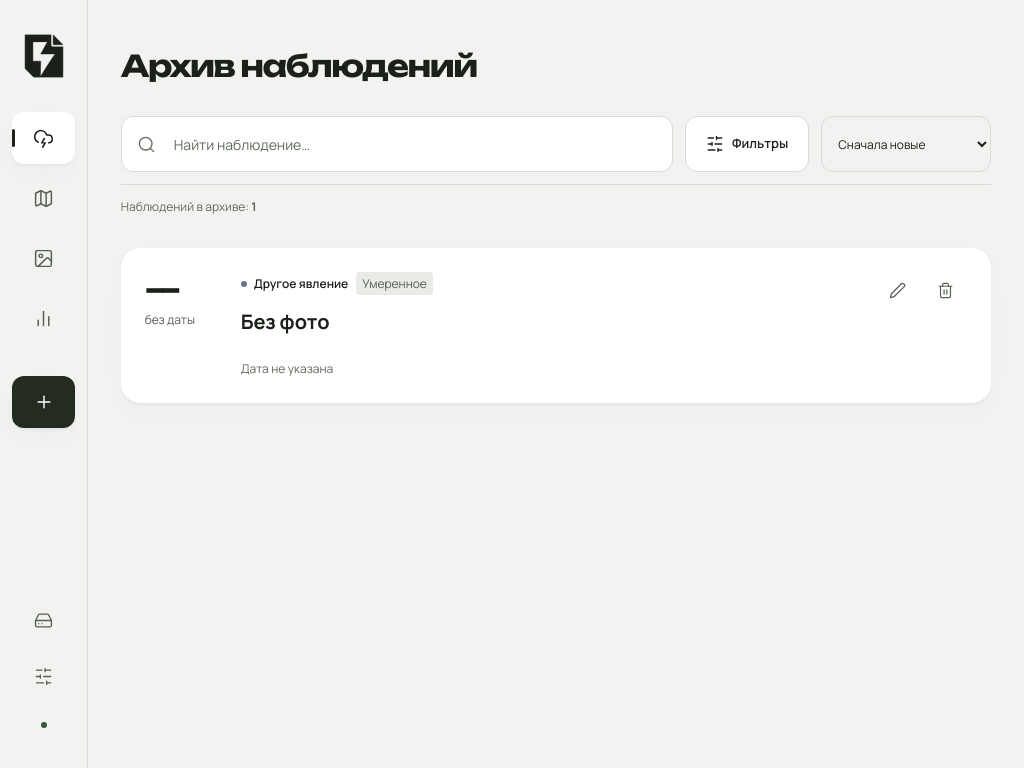
Test: tabs › shows an empty gallery message when nothing has photos
Click the button named "Галерея". click: {"x": 44, "y": 258}
box: [12,232,75,284]
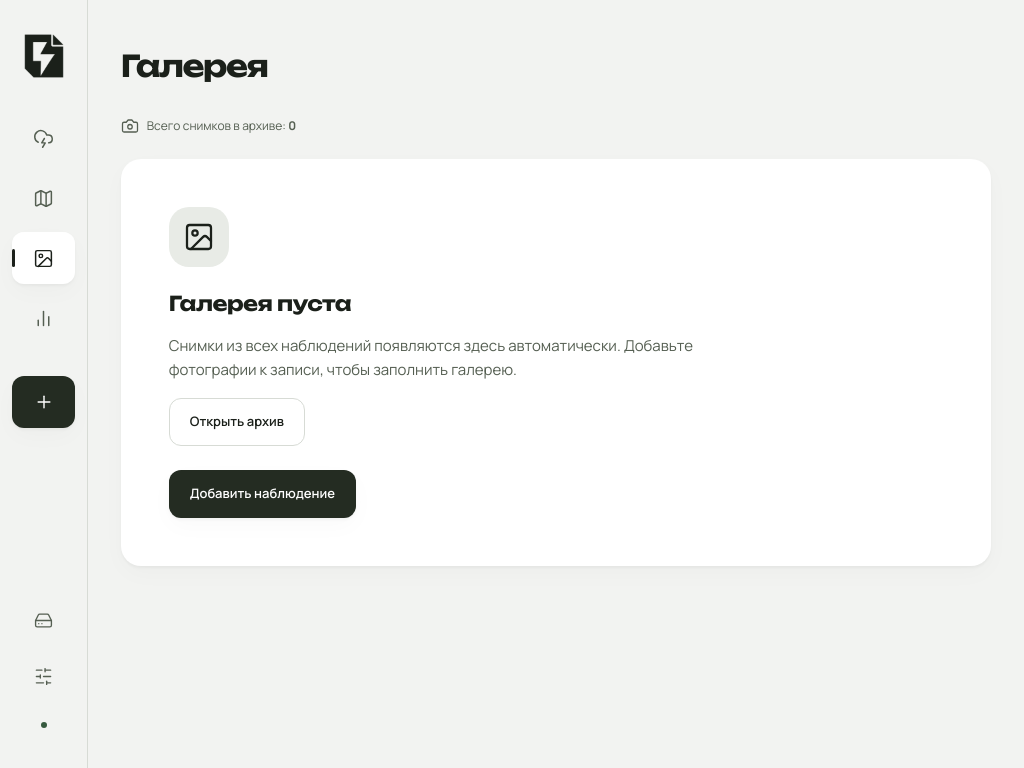
expect the heading "Галерея пуста" is shown: met, box [169,291,351,318]
